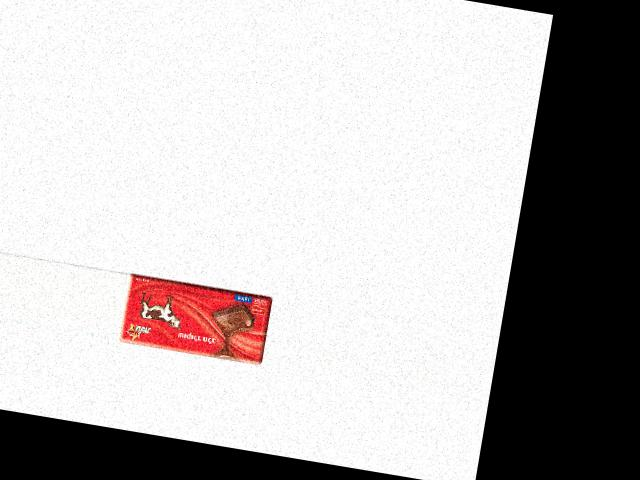chocolate: (117, 273, 273, 366)
